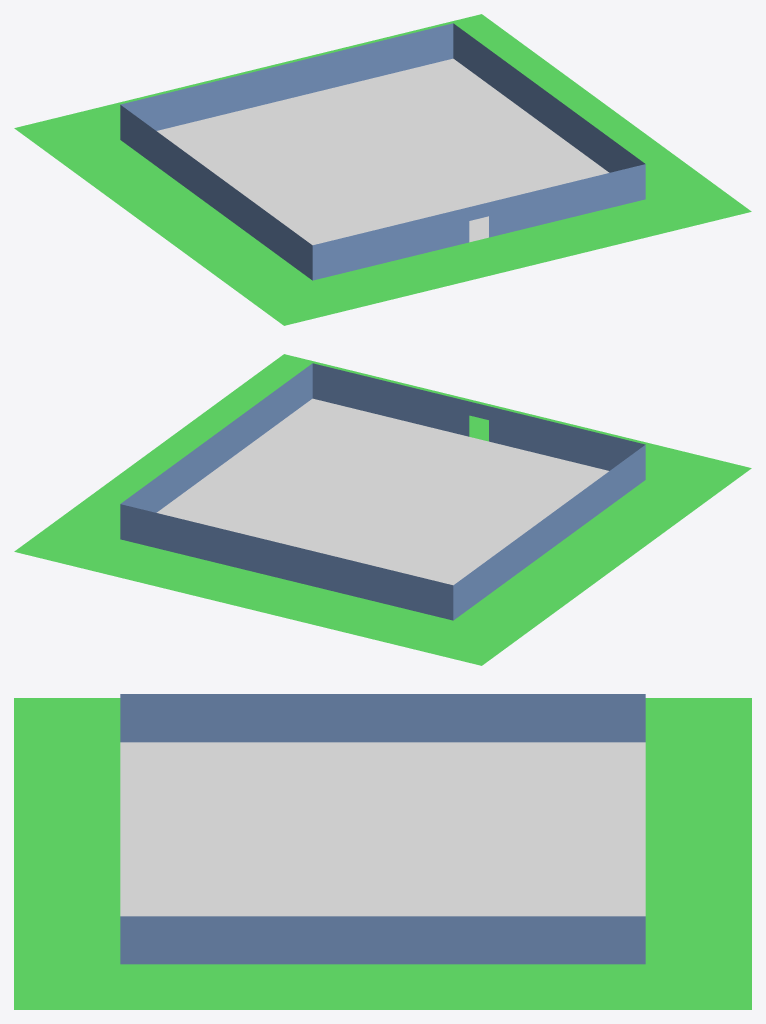
The model's file is GameZoneBuilding.fbx.
3 views of the same model, one above another, from view 1: azimuth 30°, elevation 25°; view 2: azimuth 150°, elevation 25°; view 3: azimuth 270°, elevation 25° (orthographic). The views are drawn at different scales.
Parts seen in each view (by area): view 1: Cube, Plane; view 2: Cube, Plane; view 3: Cube, Plane.
Boxes of the visible parts, x1,y1,x2,y2 form: Cube: (120, 23, 645, 280); Plane: (14, 14, 751, 325); Cube: (120, 363, 645, 620); Plane: (14, 354, 751, 665); Cube: (120, 694, 645, 964); Plane: (14, 698, 751, 1009).
Bounding box in the file's own units: 13996 × 1020 × 13996.
